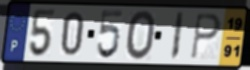0: (59, 10, 87, 58)
5: (27, 8, 57, 59), (95, 9, 124, 61)
I: (168, 11, 185, 63)
O: (125, 9, 157, 63)
P: (189, 12, 222, 62)
